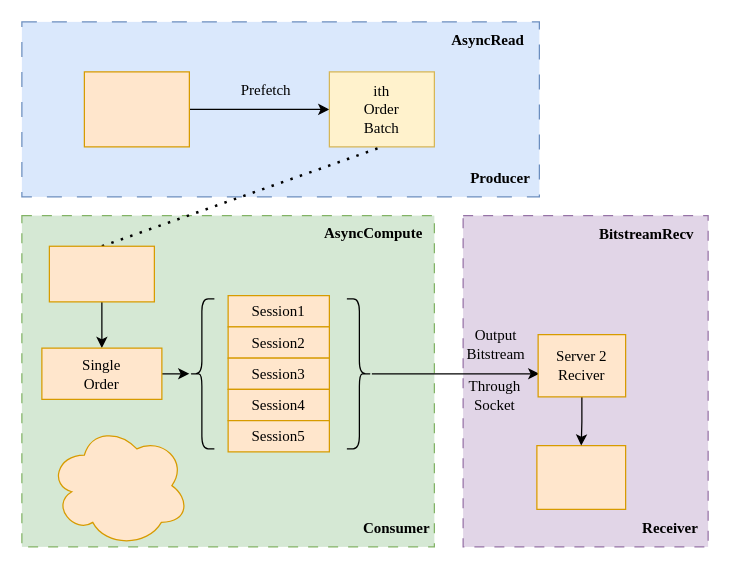
Image size: 730x569. Some labels were removed from this diagram. The shapes that lost their labels are listed below. From the top down, each one's centre as x and y in pixels, then its label:
the point at 136,109: Server 1 Disk
the point at 101,273: (i-1) th Order Batch
the point at 118,485: Each Session: Priority Queue & Hash Table
the point at 581,476: Server 2 Disk
